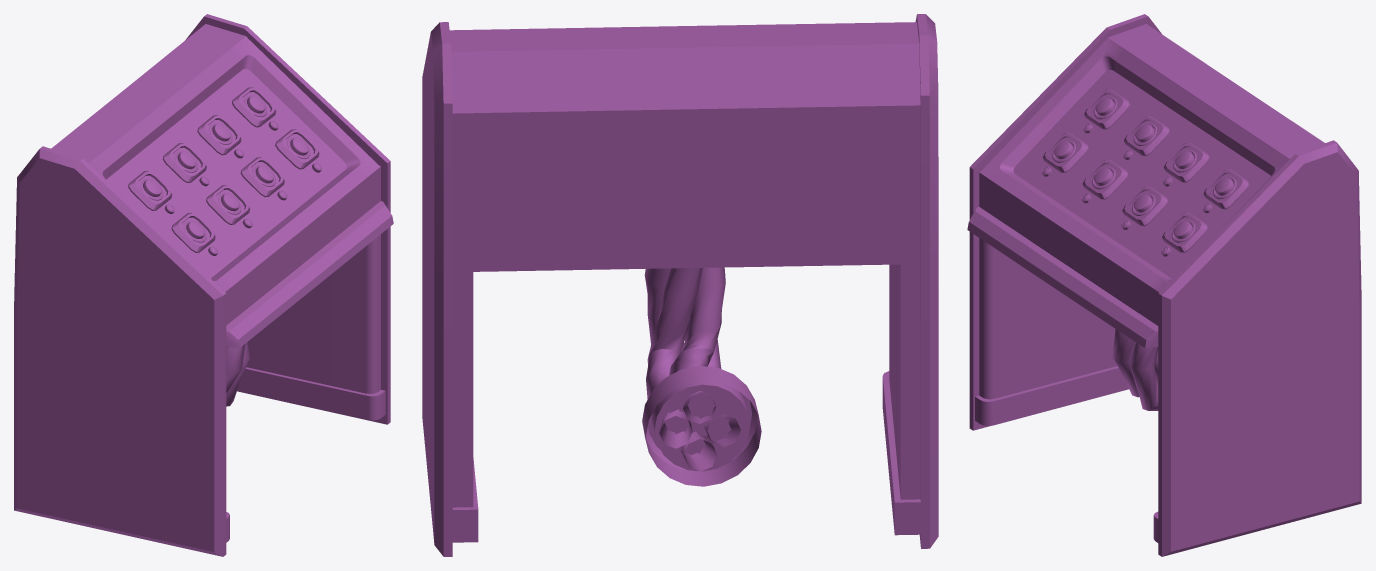
The model's file is RadarMinigame.fbx.
3 views of the same model, side by side, from view 1: azimuth 30°, elevation 25°; view 2: azimuth 150°, elevation 25°; view 3: azimuth 270°, elevation 25° (orthographic). The views are drawn at different scales.
Parts seen in each view (by area): view 1: RadarMinigamePanel_Geo; view 2: RadarMinigamePanel_Geo; view 3: RadarMinigamePanel_Geo.
Part boxes in pixels (box(x1,y1,x2,y2)): RadarMinigamePanel_Geo: box(14, 14, 393, 556); RadarMinigamePanel_Geo: box(422, 14, 938, 556); RadarMinigamePanel_Geo: box(967, 14, 1361, 556).
Size of the model in its own units: 137 by 127 by 124.
